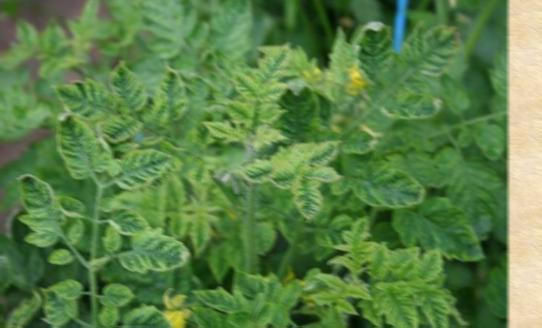Tomato leaf yellow virus: (382, 190, 490, 265), (353, 153, 428, 214), (397, 20, 462, 74), (12, 175, 71, 234), (130, 225, 194, 277), (101, 53, 149, 121), (54, 117, 100, 187), (155, 67, 193, 147), (347, 19, 391, 87), (45, 76, 114, 117), (252, 36, 305, 89), (113, 149, 172, 196), (378, 91, 441, 130), (291, 171, 327, 231), (183, 288, 248, 318), (406, 246, 445, 293), (230, 155, 277, 192), (412, 287, 454, 328), (218, 68, 259, 107), (299, 139, 344, 174), (381, 285, 416, 328), (111, 306, 179, 328), (276, 278, 303, 319), (364, 245, 389, 282), (260, 76, 286, 105), (311, 271, 345, 291)
